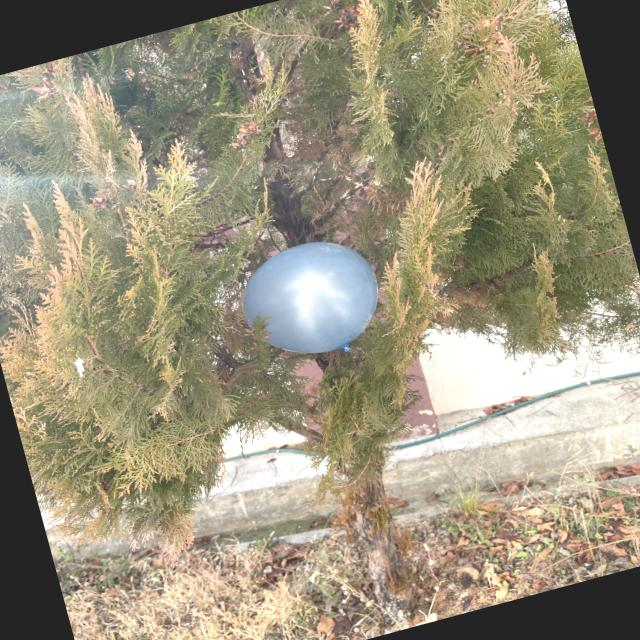balloon: (242, 242, 377, 353)
